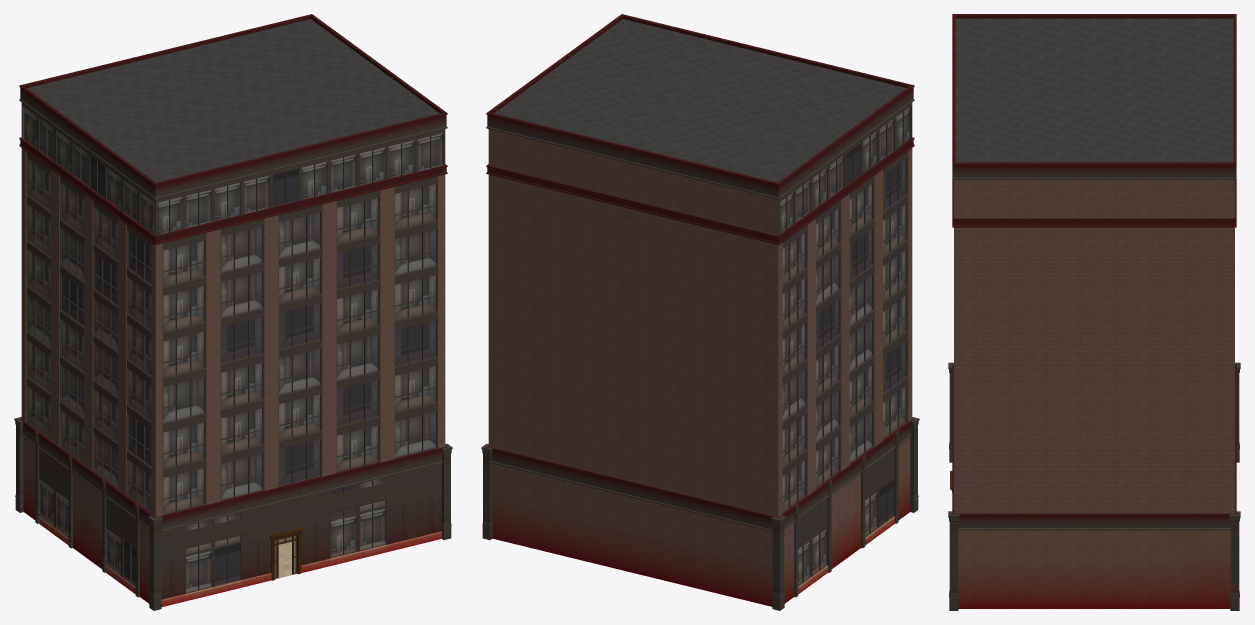
File: la-building-large.glb
3 renders of one model, left to right at view 1: azimuth 30°, elevation 25°; view 2: azimuth 150°, elevation 25°; view 3: azimuth 270°, elevation 25°, orthographic. The views are drawn at different scales.
Parts seen in each view (by area): view 1: Building_Large_2; view 2: Building_Large_2; view 3: Building_Large_2.
Part boxes in pixels (bbox=[...]): Building_Large_2: bbox=[14, 14, 452, 610]; Building_Large_2: bbox=[481, 14, 919, 610]; Building_Large_2: bbox=[948, 14, 1240, 610].
Bounding box in the file's own units: 20.64 × 28 × 16.64.
Materials: 9 (8 with a texture image).
